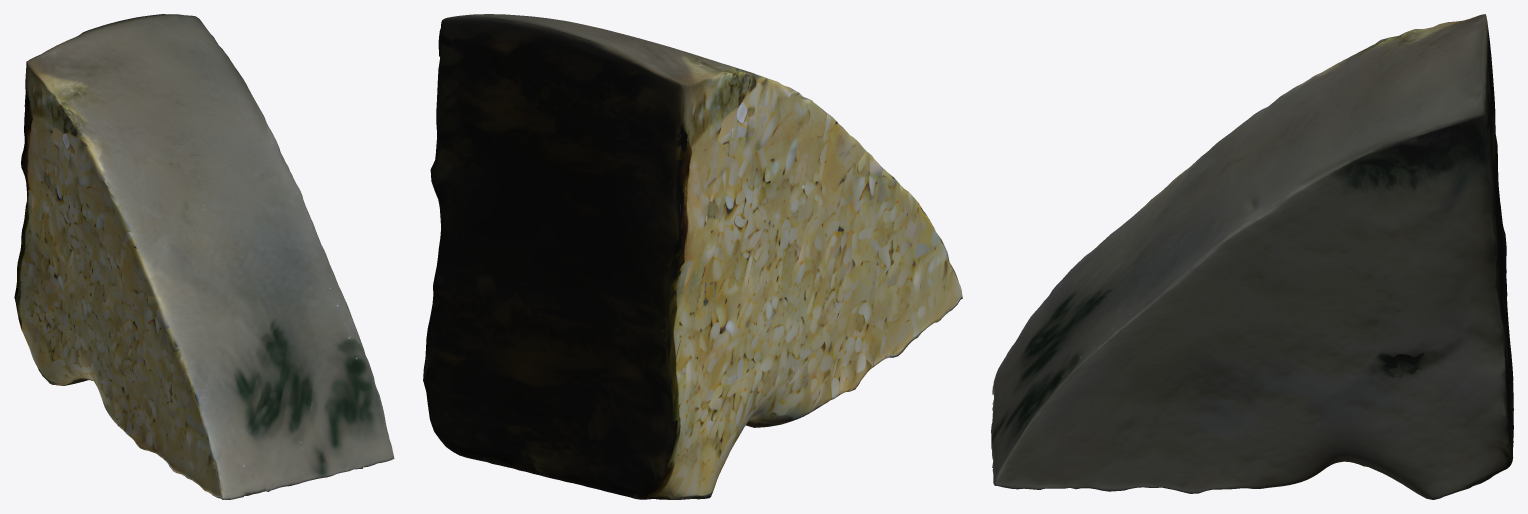
3 renders of one model, left to right at view 1: azimuth 30°, elevation 25°; view 2: azimuth 150°, elevation 25°; view 3: azimuth 270°, elevation 25°, orthographic. The views are drawn at different scales.
Visible parts, largest first — view 1: model; view 2: model; view 3: model.
Part boxes in pixels (x1,y1,x2,y2): model: (14,14,394,499); model: (423,14,962,499); model: (991,14,1513,499).
Bounding box in the file's own units: 0.8911 × 1.57 × 1.82.
1 material, 1 textured.
